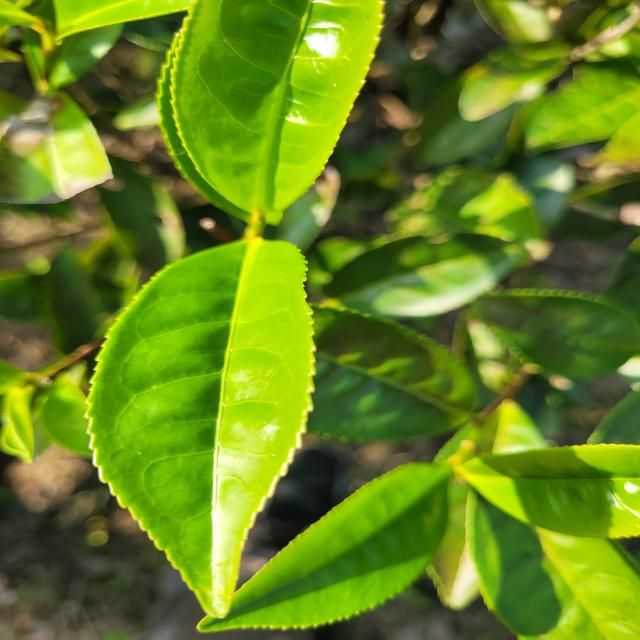Category B(2-4 days): (51, 172, 416, 639)
